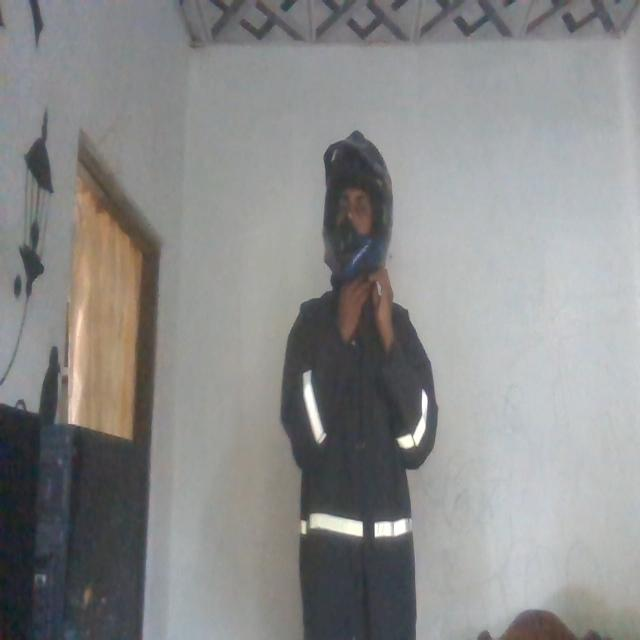Helmet_Wearer: (309, 126, 401, 295)
Jacket_Wearer: (275, 290, 434, 640)
Person: (284, 127, 442, 640)
